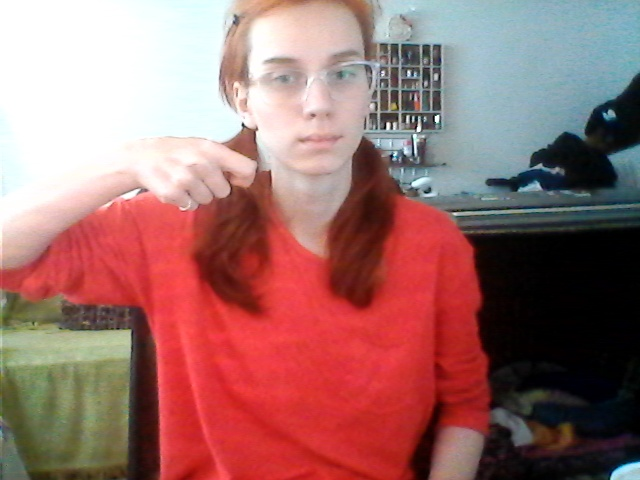jest: (134, 121, 319, 216)
